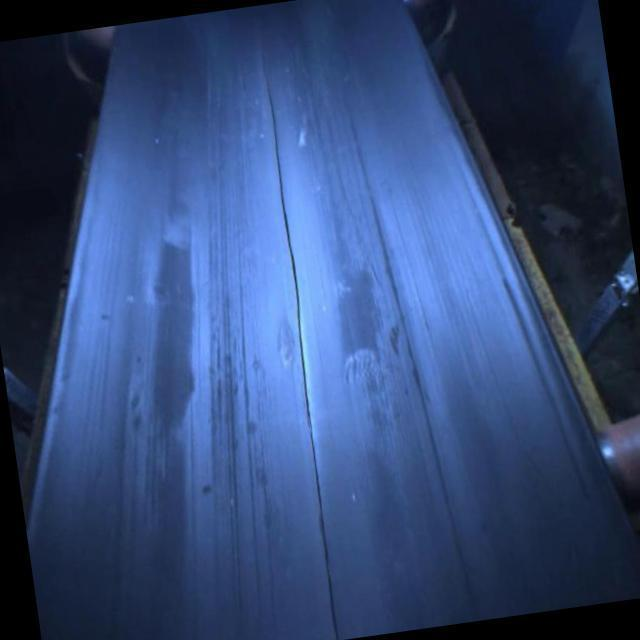Tear: (255, 57, 347, 640)
